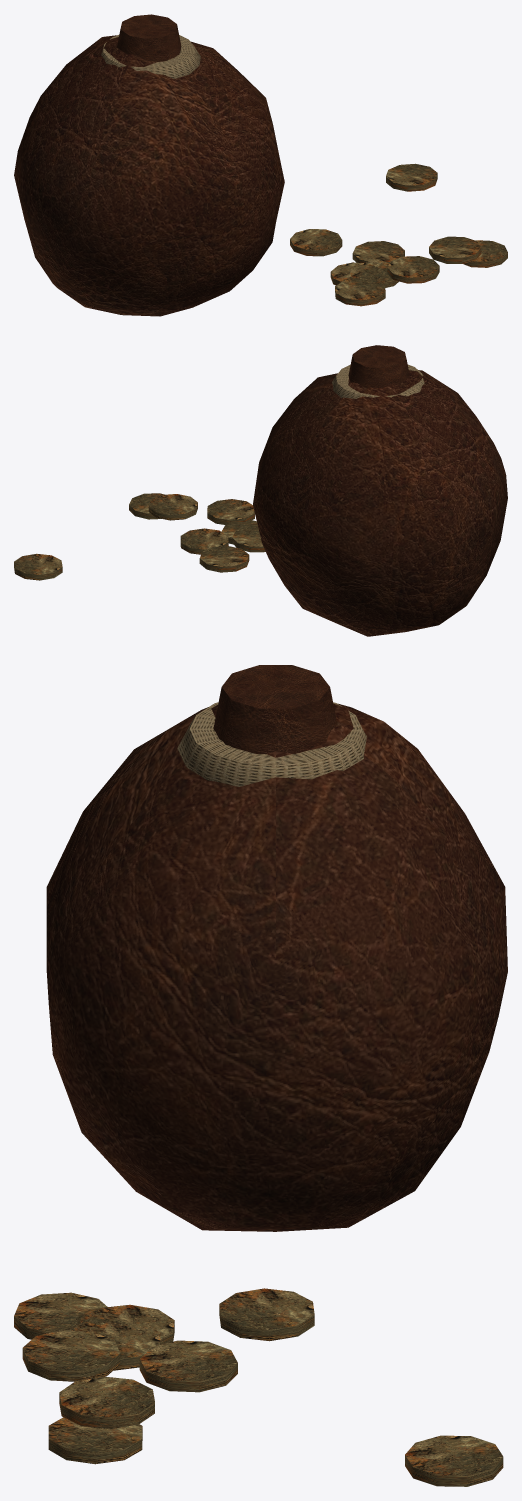
Rendered from coin-purse-v01-photo.glb.
The picture shows the model from 3 angles, top to bottom: view 1: azimuth 30°, elevation 25°; view 2: azimuth 150°, elevation 25°; view 3: azimuth 270°, elevation 25°; orthographic projection. The views are drawn at different scales.
Visible parts, largest first — view 1: coin-purse; view 2: coin-purse; view 3: coin-purse.
Part boxes in pixels (x1=…): coin-purse: x1=14, y1=14, x2=507, y2=316; coin-purse: x1=14, y1=345, x2=507, y2=636; coin-purse: x1=14, y1=665, x2=507, y2=1486.
Size of the model in its own units: 0.7914 by 0.445 by 0.4008.
3 materials, 3 textured.
